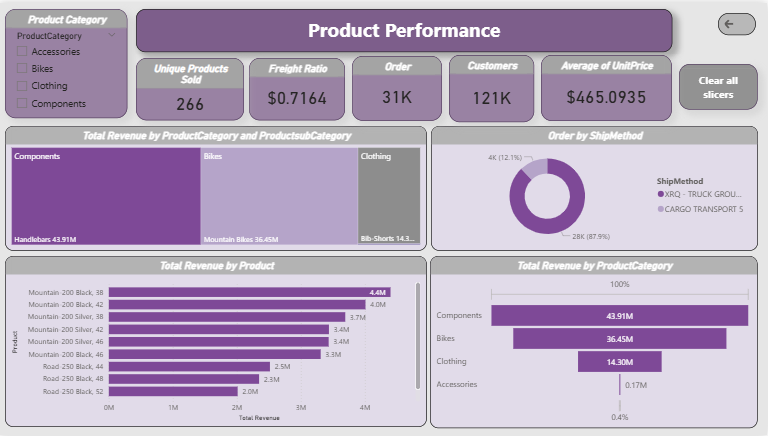

This screenshot's page, from the dashboard's own definition file:
{"tool":"powerbi","page":{"name":"Product Performance","canvas":[1280,720],"ordinal":2},"visuals":[{"type":"textbox","box":[228,10,894,72],"z":0},{"type":"treemap","fields":{"Group":["Dim Products.ProductCategory"],"Details":["Dim Products.ProductsubCategory"],"Values":["DAX_Measures.Total Revenue"]},"box":[9.5,204.2,703.3,208],"z":1000},{"type":"barChart","fields":{"Category":["Dim Products.Product"],"Y":["DAX_Measures.Total Revenue"]},"box":[9.5,421.6,703.3,285.5],"z":2000},{"type":"slicer","title":"Product Category","fields":{"Values":["Dim Products.ProductCategory"]},"box":[10,10,204,182],"z":3000},{"type":"donutChart","fields":{"Y":["DAX_Measures.Order"],"Category":["Dim ShipMethod.Name"]},"box":[720.4,204.2,544.5,208],"z":4000},{"type":"card","title":"Order","fields":{"Values":["DAX_Measures.Order"]},"box":[588,88,150,108],"z":5000},{"type":"funnel","fields":{"Category":["Dim Products.ProductCategory"],"Y":["DAX_Measures.Total Revenue"]},"box":[718.5,421.6,546.4,287.4],"z":6000},{"type":"card","title":"Customers","fields":{"Values":["DAX_Measures.Customers"]},"box":[750,86,142,112],"z":7000},{"type":"card","title":"Freight Ratio ","fields":{"Values":["DAX_Measures.Freight Ratio %"]},"box":[416,92,160,104],"z":8000},{"type":"card","title":"Unique Products Sold","fields":{"Values":["DAX_Measures.Unique Products Sold"]},"box":[228,92,180,104],"z":9000},{"type":"actionButton","box":[1132.9,101.4,131.4,75.7],"z":10000},{"type":"actionButton","box":[1198.6,17.1,62.9,37.1],"z":11000},{"type":"card","title":"Average of UnitPrice","fields":{"Values":["Avg(Fact SalesOrders.UnitPrice)"]},"box":[904,86,218,110],"z":12000}]}

Visuals, with their boxes in screenshot pixels (x1, y1, x2, y2), scaled from the page's 1280x720 canvas onto the 768x436 screenshot:
textbox: [137, 6, 673, 50]
treemap - Dim Products.ProductCategory x Dim Products.ProductsubCategory: [6, 124, 428, 250]
barChart - Dim Products.Product x DAX_Measures.Total Revenue: [6, 255, 428, 428]
"Product Category" slicer: [6, 6, 128, 116]
donutChart - DAX_Measures.Order x Dim ShipMethod.Name: [432, 124, 759, 250]
"Order" card: [353, 53, 443, 119]
funnel - Dim Products.ProductCategory x DAX_Measures.Total Revenue: [431, 255, 759, 429]
"Customers" card: [450, 52, 535, 120]
"Freight Ratio " card: [250, 56, 346, 119]
"Unique Products Sold" card: [137, 56, 245, 119]
actionButton: [680, 61, 759, 107]
actionButton: [719, 10, 757, 33]
"Average of UnitPrice" card: [542, 52, 673, 119]
